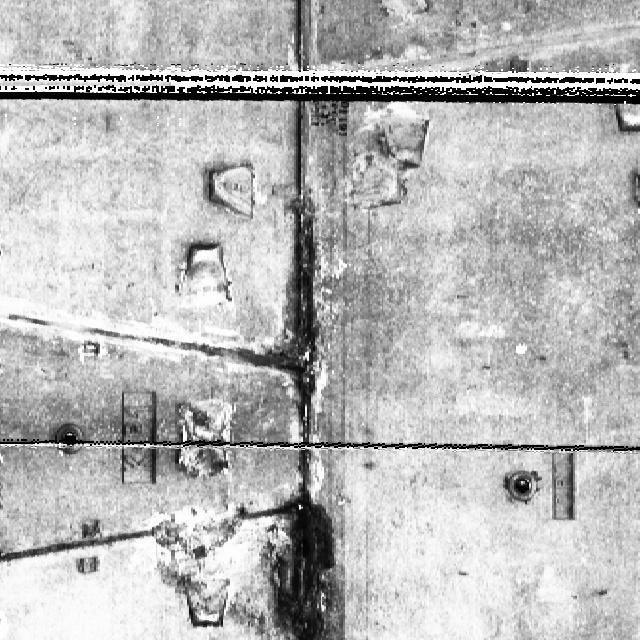leakage: (250, 191, 334, 440), (246, 451, 354, 639)
